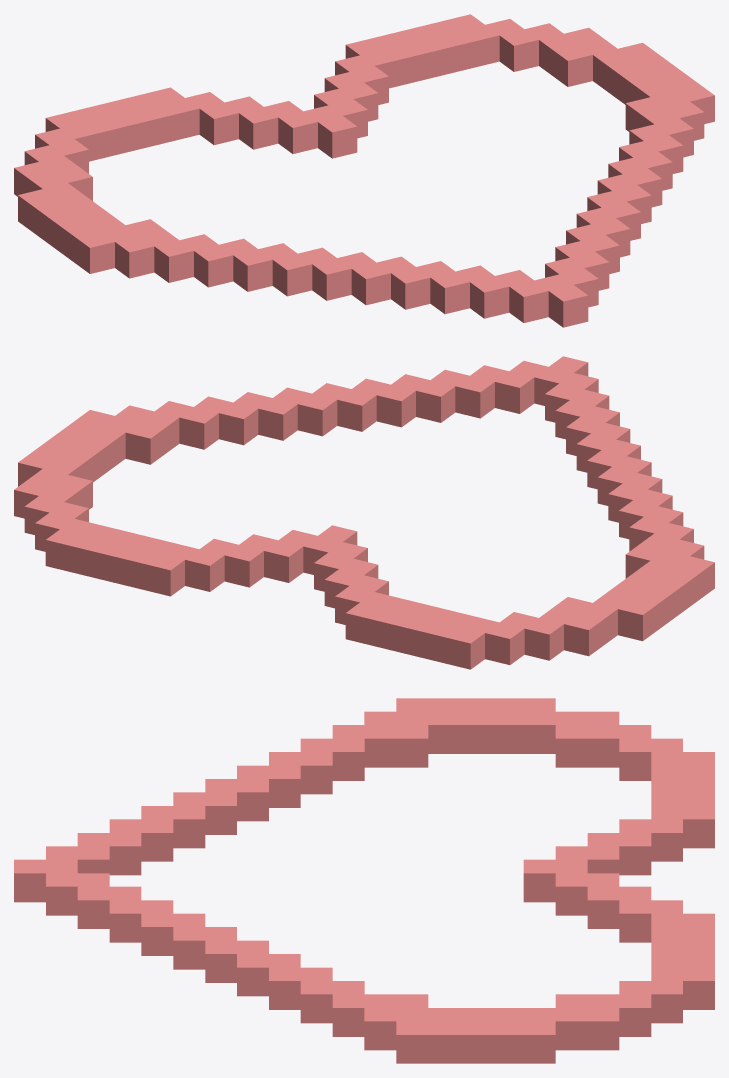
File: UI_Heart_Outline.fbx
3 renders of one model, top to bottom at view 1: azimuth 30°, elevation 25°; view 2: azimuth 150°, elevation 25°; view 3: azimuth 270°, elevation 25°, orthographic. The views are drawn at different scales.
Visible parts, largest first — view 1: Matrix_part_2; view 2: Matrix_part_2; view 3: Matrix_part_2.
Part boxes in pixels (x1,y1,x2,y2): Matrix_part_2: (14,14,714,327); Matrix_part_2: (14,356,714,669); Matrix_part_2: (14,698,714,1063).
Bounding box in the file's own units: 25 × 1 × 22.
1 material, 1 textured.
